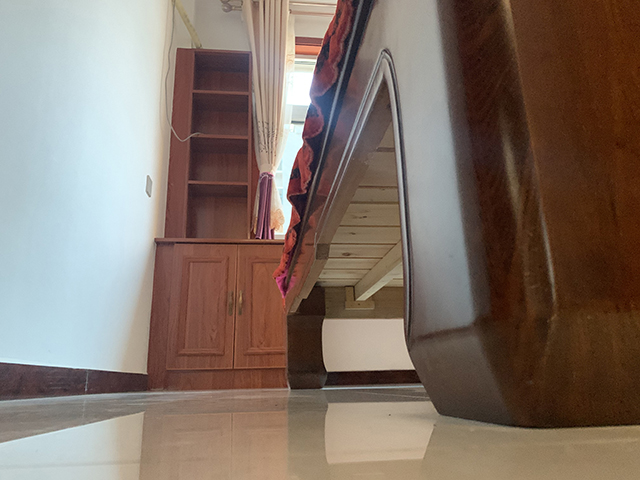bed: (273, 1, 640, 431)
cabinet: (149, 230, 289, 391)
curtain: (239, 1, 284, 239)
